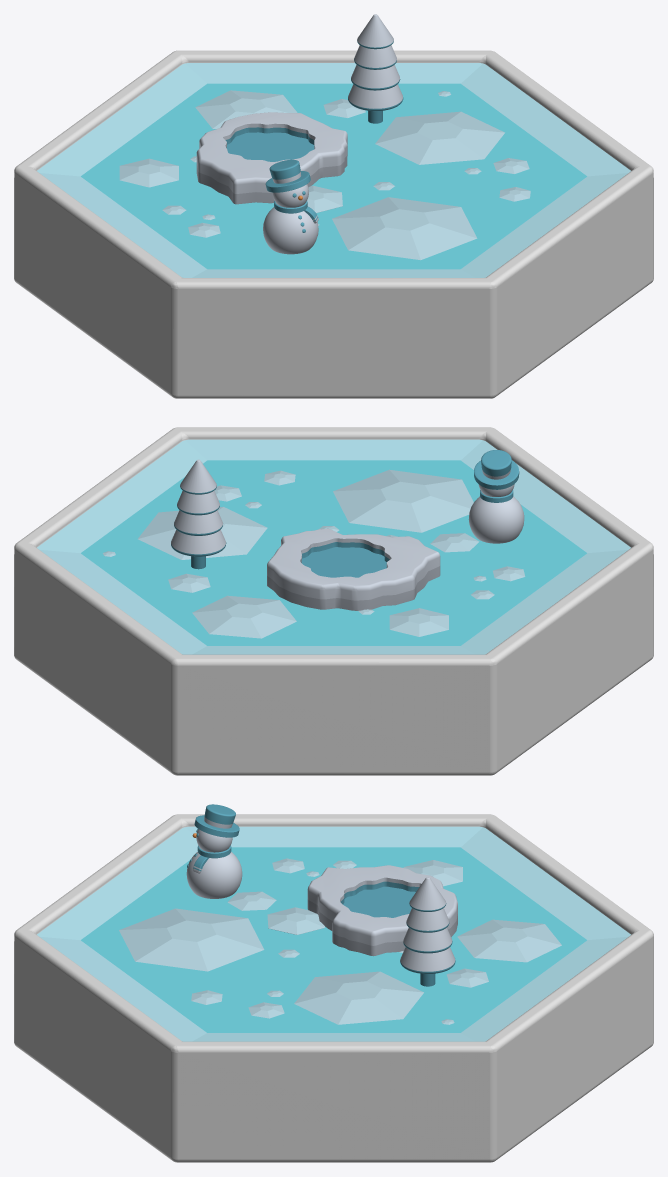
Rendered from ice_default.glb.
3 views of the same model, one above another, from view 1: azimuth 30°, elevation 25°; view 2: azimuth 150°, elevation 25°; view 3: azimuth 270°, elevation 25° (orthographic).
Visible parts, largest first — view 1: ice base, ice, lake, ice tree, snowman, hat; view 2: ice base, ice, lake, ice tree, snowman, hat; view 3: ice base, ice, lake, ice tree, snowman, hat.
Part boxes in pixels (<box>): ice base: <box>14,50,653,398</box>; ice: <box>37,63,630,277</box>; lake: <box>196,112,347,204</box>; ice tree: <box>348,14,403,111</box>; snowman: <box>263,184,318,254</box>; hat: <box>265,159,310,192</box>; ice base: <box>14,427,653,775</box>; ice: <box>37,439,630,654</box>; lake: <box>267,528,440,610</box>; ice tree: <box>171,459,226,556</box>; snowman: <box>468,484,524,543</box>; hat: <box>474,450,519,489</box>; ice base: <box>14,814,653,1162</box>; ice: <box>37,826,630,1041</box>; lake: <box>307,865,457,956</box>; ice tree: <box>400,877,455,973</box>; snowman: <box>186,829,242,898</box>; hat: <box>194,804,239,837</box>.
Bounding box in the file's own units: 0.866 × 0.3643 × 0.9955.
